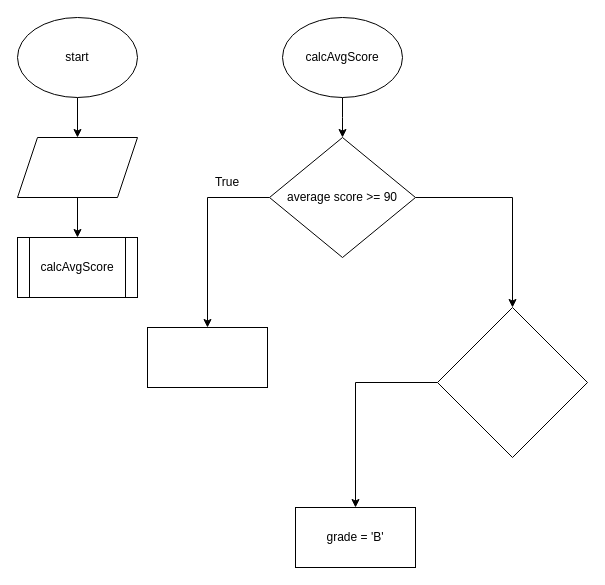
Some shapes in this 605 by 585 pixel diagram are drawn without their labels. The centre of each missing label's shape, as x and y in pixels:
"average score < 90 and average score >= 70" belongs at [512,382].
"grade = 'A'" belongs at [207,357].
"input 3 scores" belongs at [77,167].
